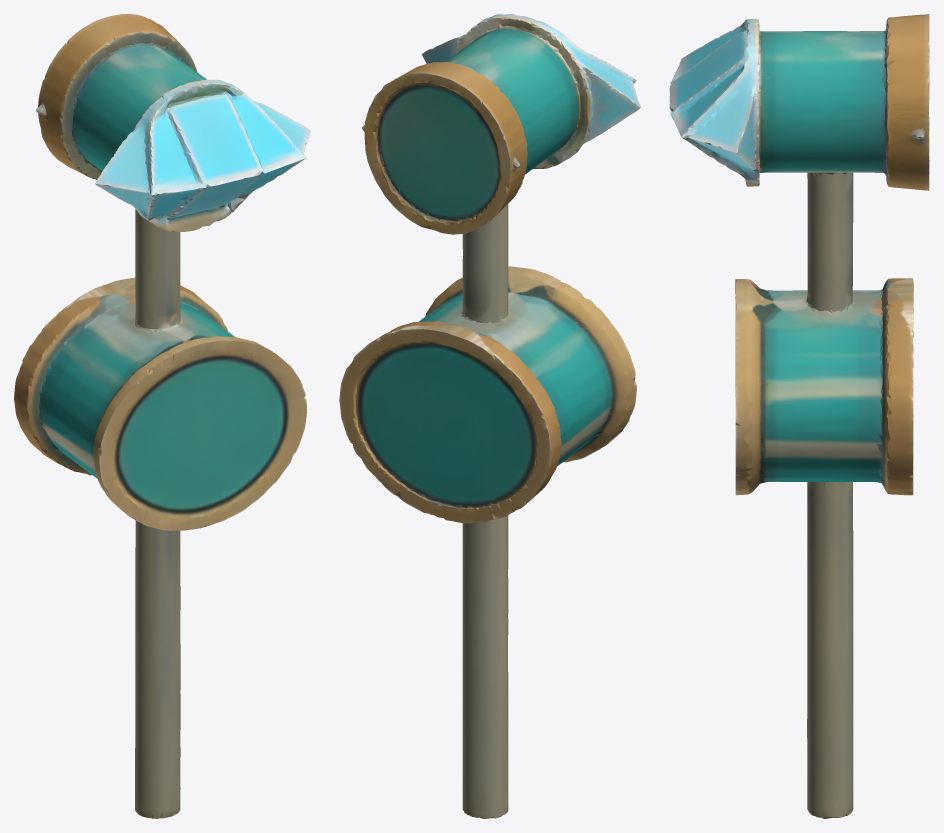
The model's file is Station_HoloPylon.glb.
3 renders of one model, left to right at view 1: azimuth 30°, elevation 25°; view 2: azimuth 150°, elevation 25°; view 3: azimuth 270°, elevation 25°, orthographic. The views are drawn at different scales.
Visible parts, largest first — view 1: Station_HoloPylon; view 2: Station_HoloPylon; view 3: Station_HoloPylon.
Part boxes in pixels (bbox=[...]): Station_HoloPylon: bbox=[14, 14, 310, 818]; Station_HoloPylon: bbox=[339, 14, 640, 818]; Station_HoloPylon: bbox=[669, 14, 929, 818].
Size of the model in its own units: 0.6245 by 2.1 by 0.6286.
Materials: 1 (1 with a texture image).
